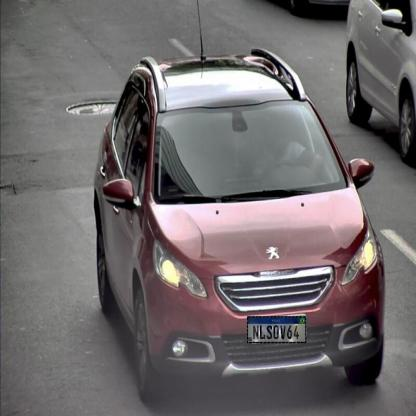PlacaM: (247, 316, 306, 343)
